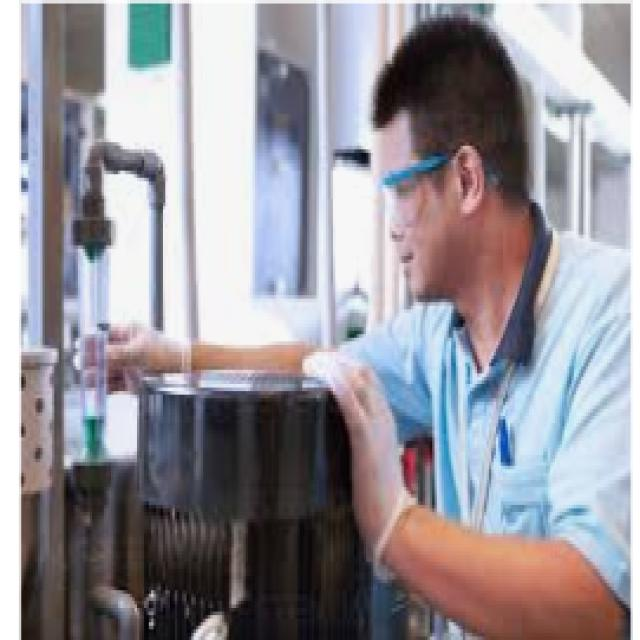glasses: (370, 149, 494, 225)
